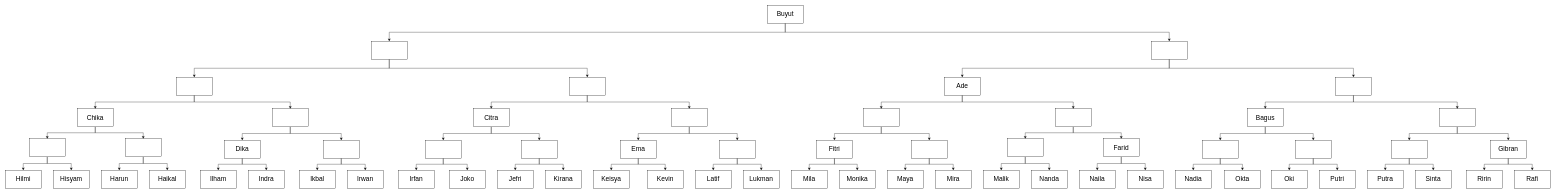
This 1556x194 diagram has some shape labels left out. Here are the shapes that lost their labels. From the top down, the centre of each, then its label:
At [389,50]: "Agus".
At [1169,50]: "Ari".
At [194,86]: "Amel".
At [587,86]: "Arya".
At [1353,86]: "Anggi".
At [290,117]: "Cinta".
At [689,117]: "Candra".
At [881,117]: "Bagas".
At [1073,117]: "Budi".
At [1457,117]: "Bayu".
At [47,147]: "Dimas".
At [143,147]: "Dinda".
At [341,149]: "Erwin".
At [443,149]: "Eka".
At [539,149]: "Erlin".
At [737,149]: "Fikri".
At [929,149]: "Fika".
At [1025,147]: "Fani".
At [1220,149]: "Galih".
At [1313,149]: "Guntur".
At [1409,149]: "Gilang".
